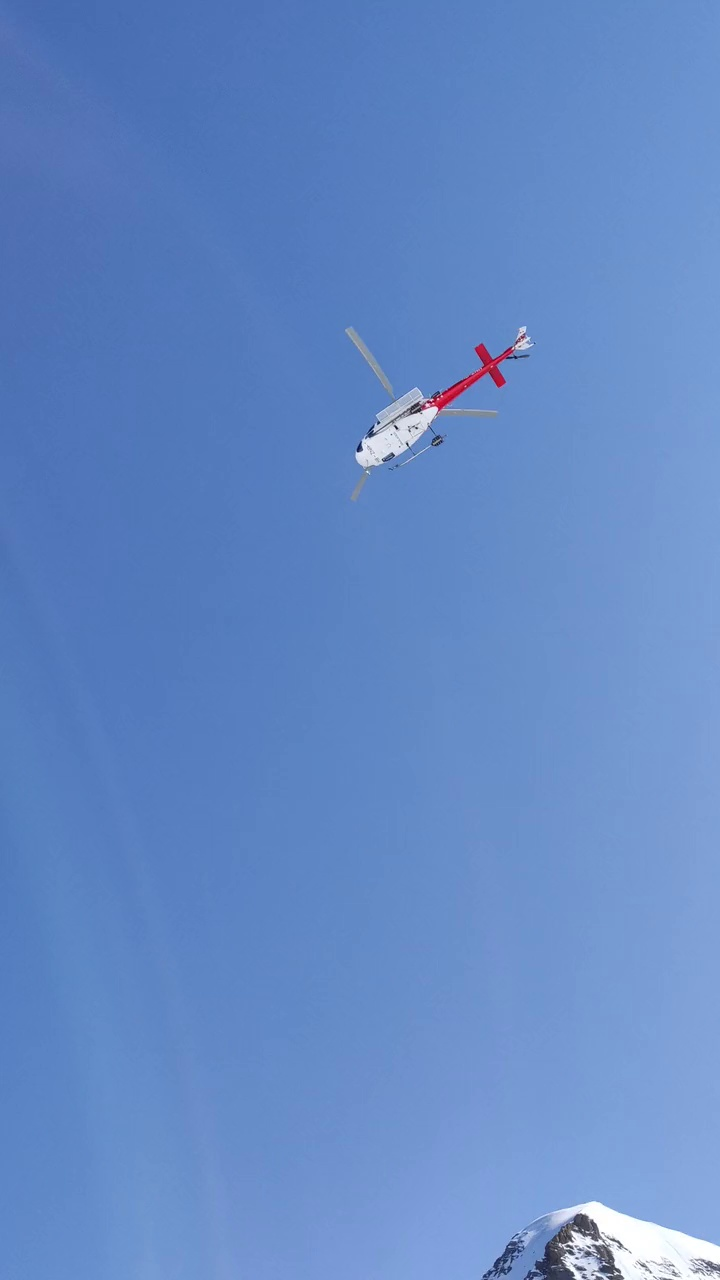heli: (343, 322, 536, 502)
